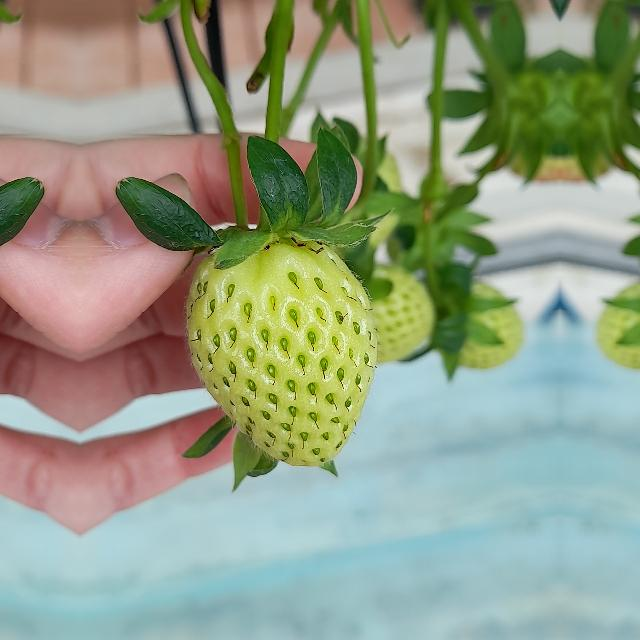Health_25: (186, 238, 378, 466)
